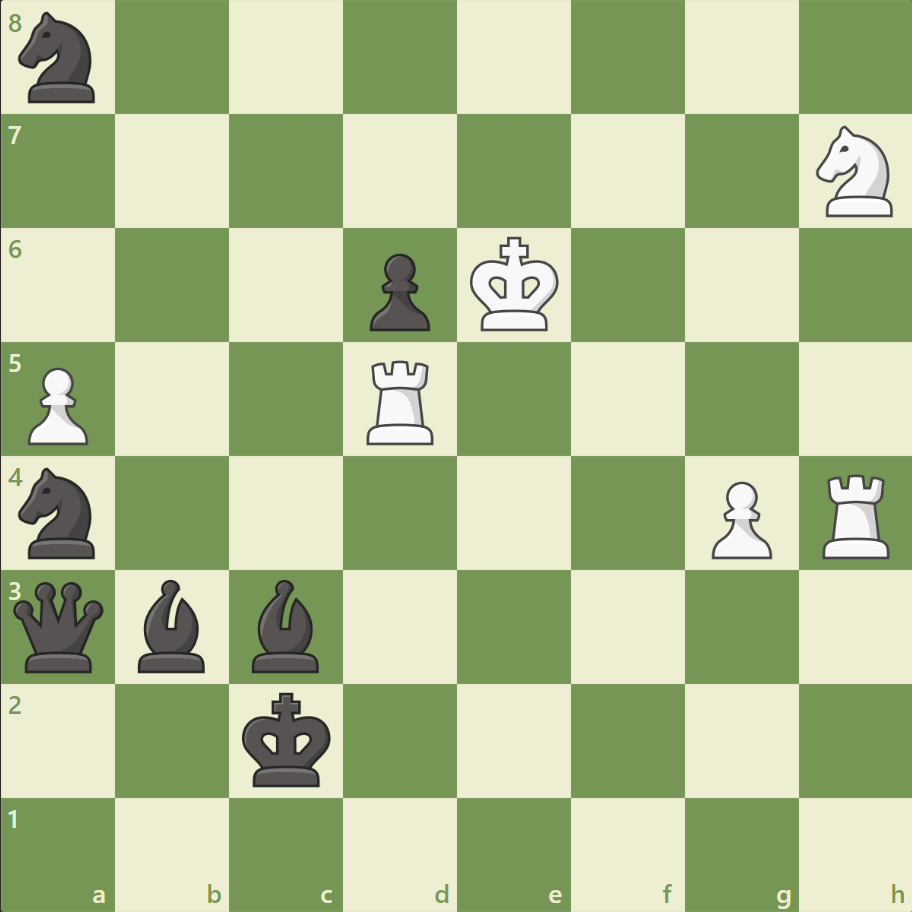K: (465, 231, 565, 339)
N: (806, 121, 903, 223)
P: (20, 359, 95, 450), (701, 473, 776, 564)
R: (814, 466, 897, 563), (360, 352, 442, 449)
b: (131, 574, 215, 676), (244, 574, 328, 676)
k: (238, 685, 338, 793)
n: (11, 7, 108, 110), (11, 461, 108, 564)
p: (361, 246, 435, 337)
q: (10, 576, 109, 676)
